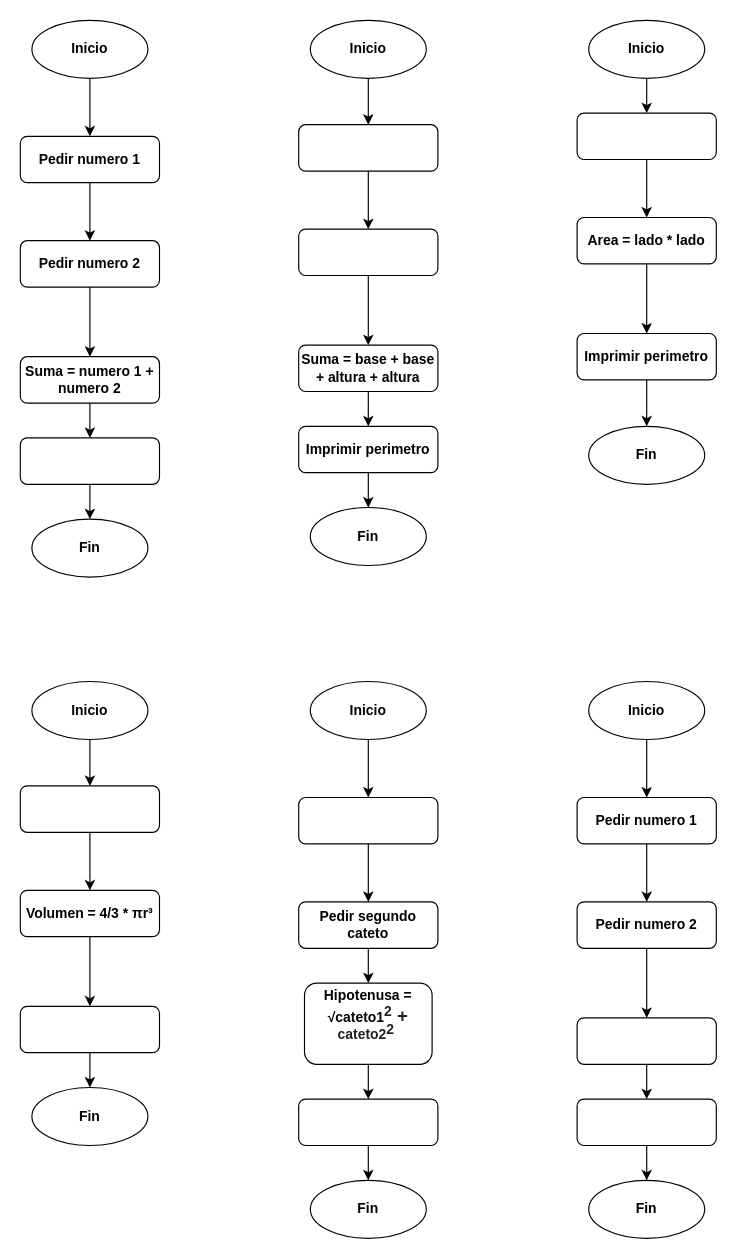
Some shapes in this 737 by 1259 pixel diagram are drawn without their labels. The centre of each missing label's shape, as x and y in pixels:
"Imprimir hipotenusa" goes at point (368, 1122).
"Imprimir promedio" goes at point (646, 1122).
"Imprimir resultado" goes at point (89, 460).
"Imprimir volumen" goes at point (89, 1029).
"Ingresar radio" goes at point (89, 808).
"Pedir altura" goes at point (368, 252).
"Pedir base" goes at point (368, 147).
"Pedir lado" goes at point (646, 136).
"Pedir primer cateto" goes at point (368, 820).
"Promedio = n * (n+1) / 2" goes at point (646, 1040).
